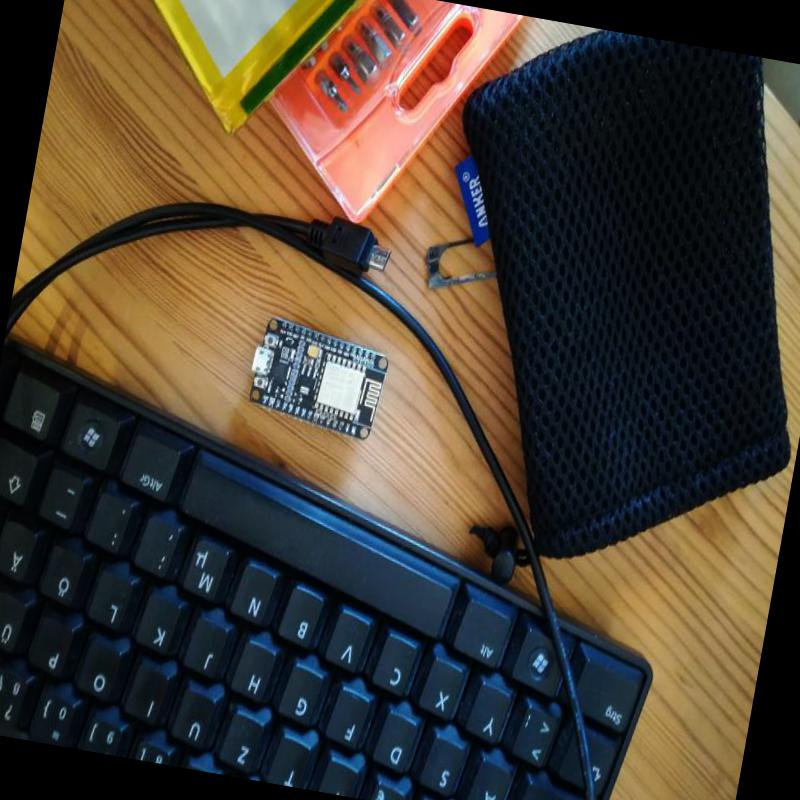ESP8266: (240, 307, 400, 451)
